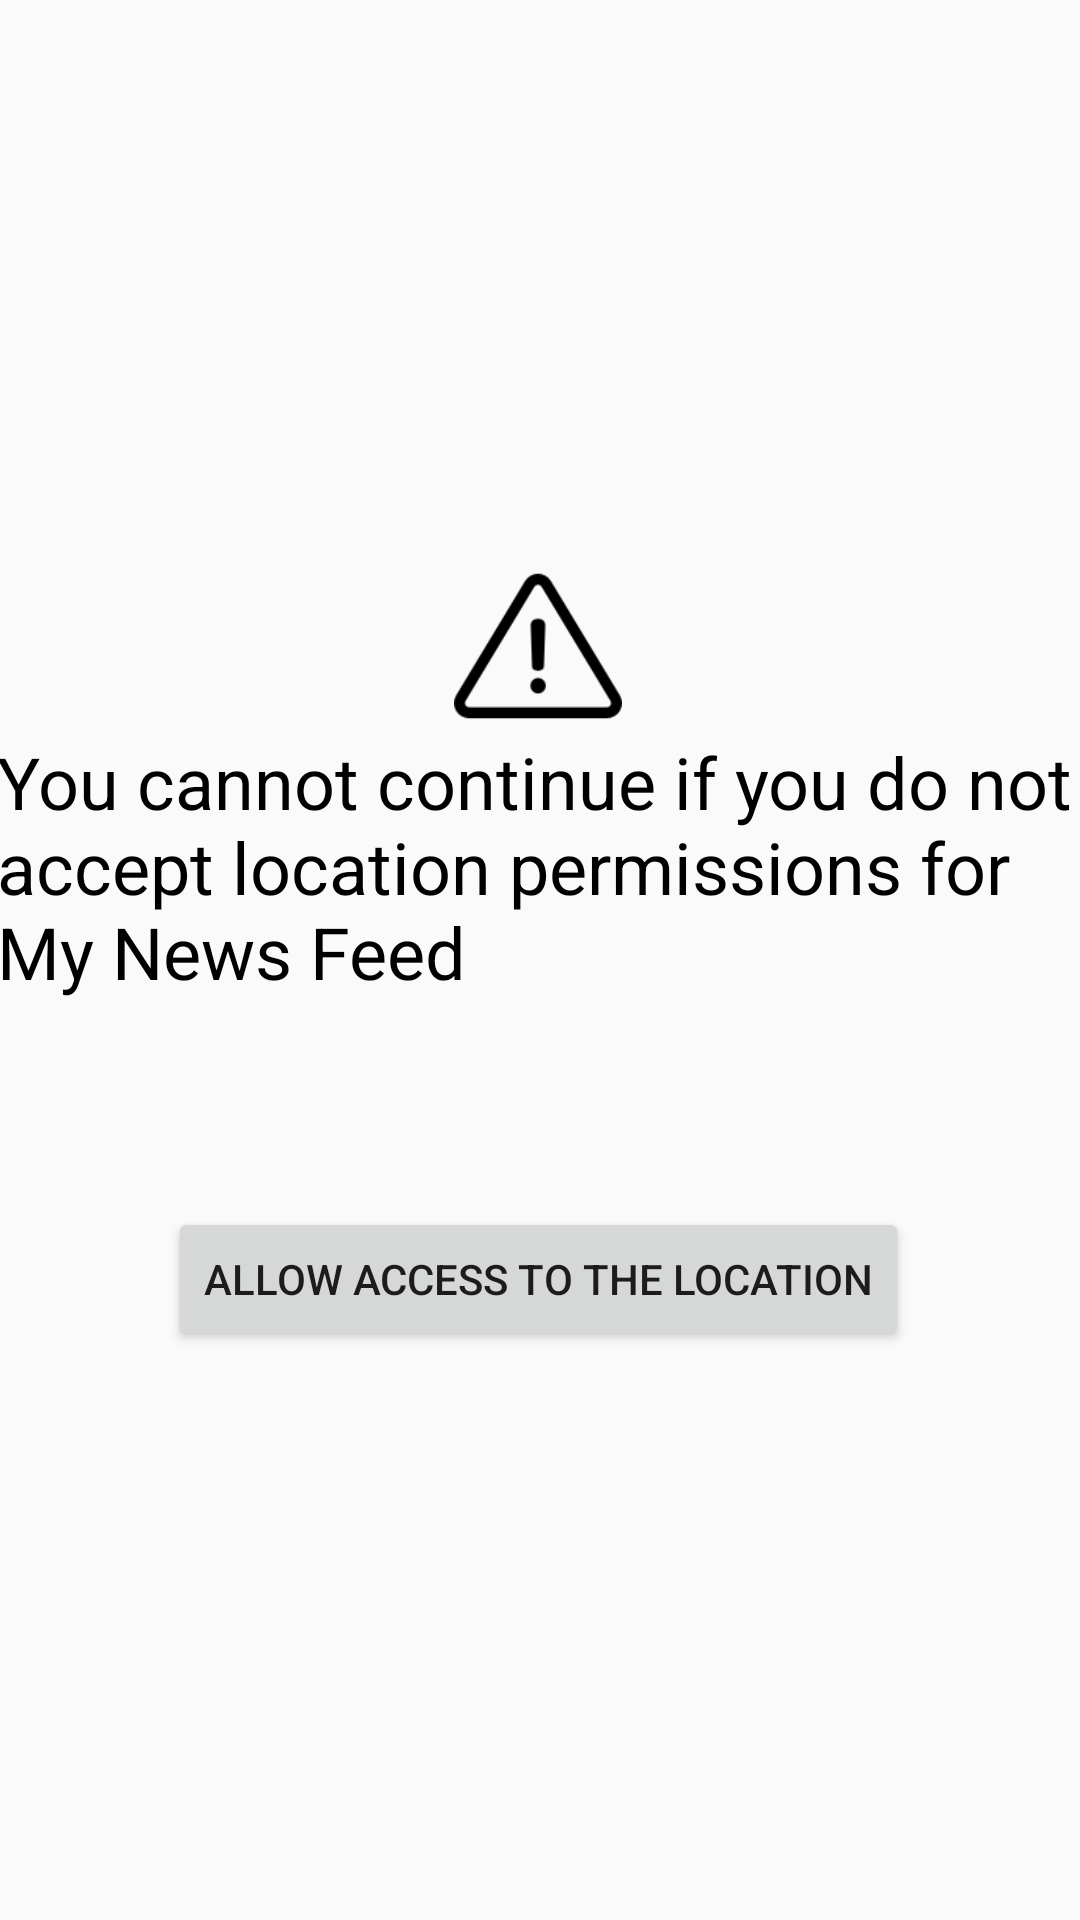

Where to tap for icons on this 1080w x 1920h app screen, as (x,y):
danger: (538,646)
